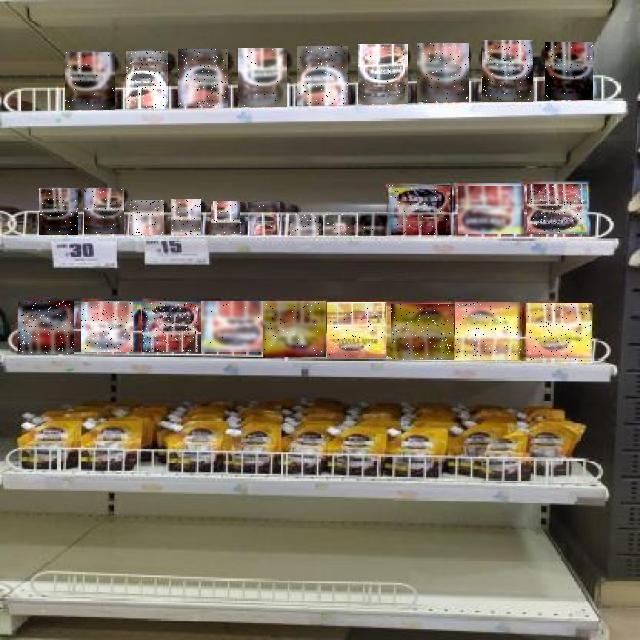Coffee: (456, 303, 522, 361), (526, 304, 592, 362), (263, 301, 326, 357), (391, 305, 454, 361), (328, 302, 390, 358), (201, 302, 264, 354), (388, 185, 452, 235), (459, 186, 525, 234), (482, 40, 533, 102), (417, 43, 469, 102), (297, 46, 348, 105), (358, 45, 408, 105), (527, 184, 587, 234), (18, 301, 74, 354), (178, 50, 228, 108), (65, 52, 115, 110), (238, 48, 287, 107), (545, 42, 593, 100), (142, 303, 198, 352), (81, 302, 133, 352), (126, 51, 168, 109), (84, 188, 124, 234), (39, 188, 78, 235), (130, 200, 164, 235), (171, 200, 201, 236), (212, 201, 244, 234), (248, 202, 280, 235), (359, 213, 391, 236), (324, 215, 354, 236), (290, 215, 319, 236)
